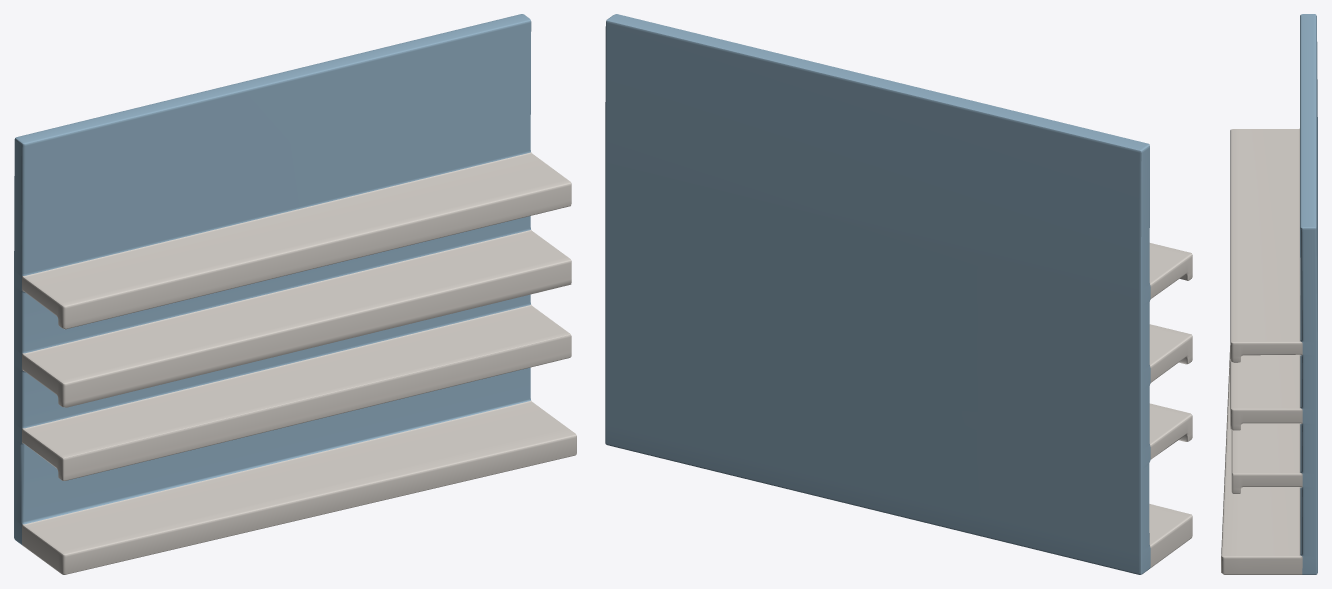
File: SM_Shelf_Low.fbx
3 views of the same model, side by side, from view 1: azimuth 30°, elevation 25°; view 2: azimuth 150°, elevation 25°; view 3: azimuth 270°, elevation 25° (orthographic). The views are drawn at different scales.
Visible parts, largest first — view 1: SM_Shelf_Low; view 2: SM_Shelf_Low; view 3: SM_Shelf_Low.
Part boxes in pixels (<box>): SM_Shelf_Low: <box>14,14,576,574</box>; SM_Shelf_Low: <box>605,14,1192,574</box>; SM_Shelf_Low: <box>1221,14,1317,574</box>.
Bounding box in the file's own units: 297 × 225 × 56.73.
Materials: 1 (1 with a texture image).
